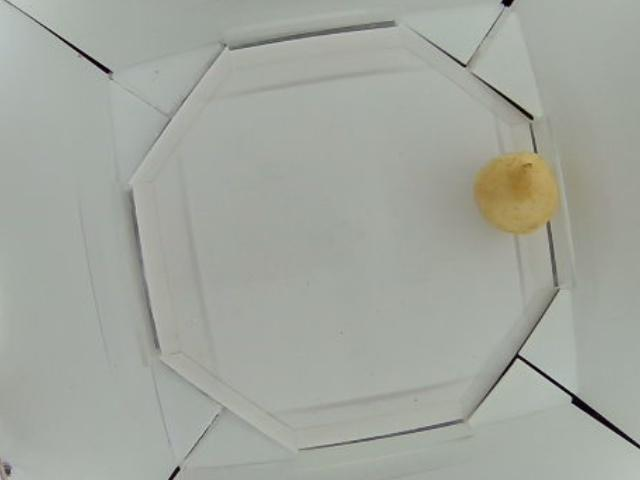Potato: (475, 147, 561, 229)
